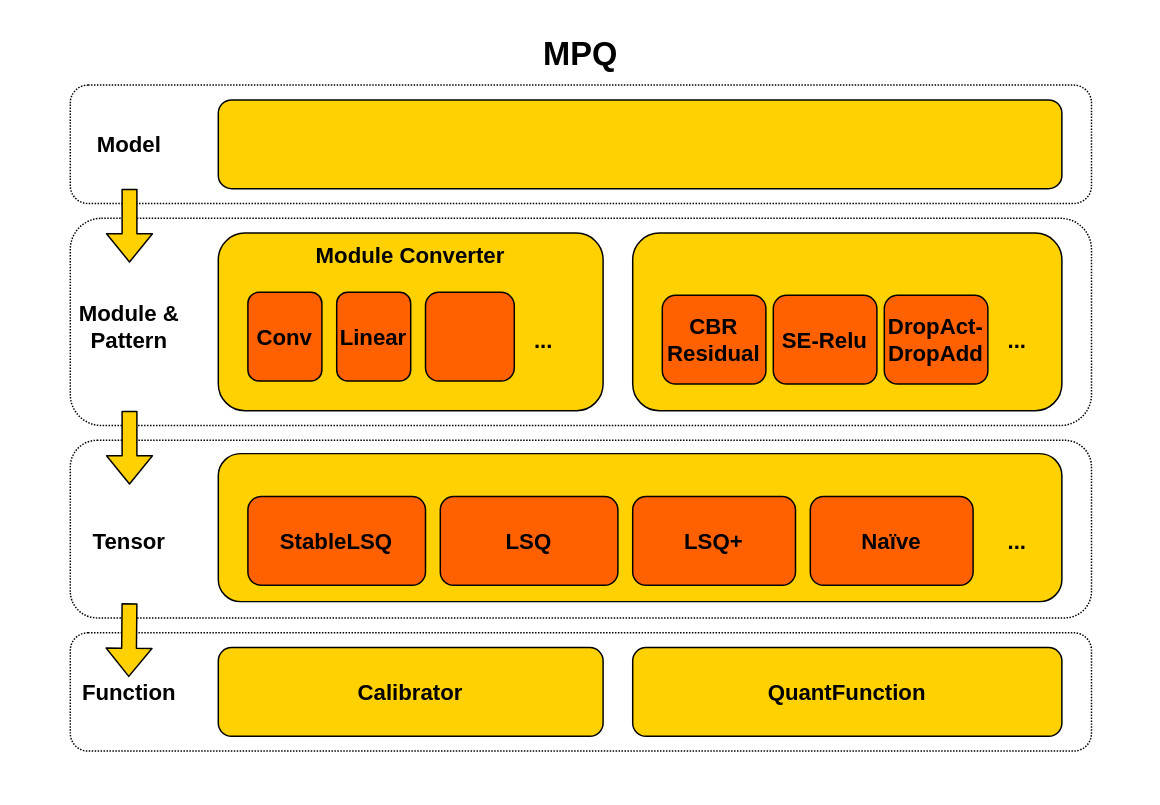
Image size: 1160x805. Some labels were removed from this diagram. The box of each missing label's shape, as (x1, y1, x2, y2) in pixels:
Model Quantizer: (217, 98, 1062, 189)
Pattern Matcher: (631, 232, 1062, 411)
Pooling: (424, 291, 514, 381)
Tensor Quantizer: (217, 452, 1062, 602)
